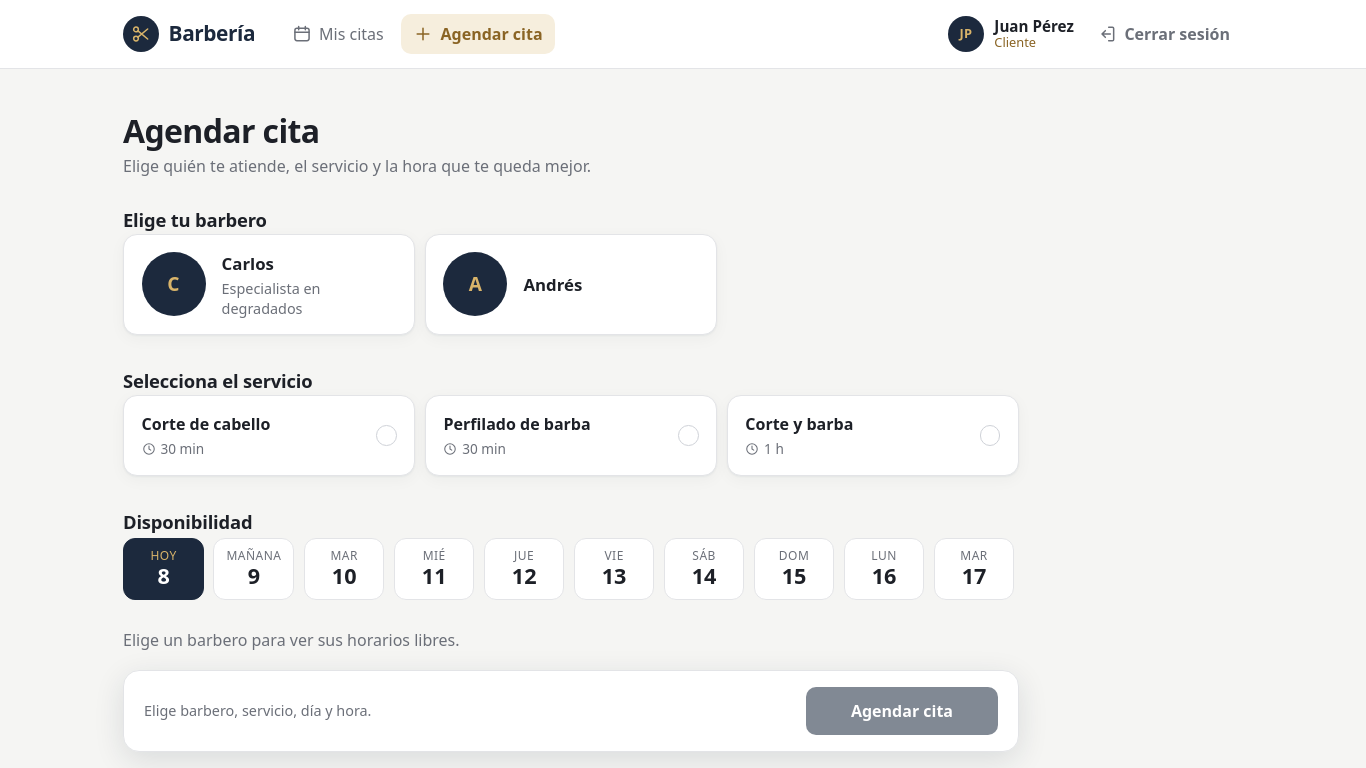
agendar cita (HU-01, HU-02, HU-07) › si el horario se ocupó, muestra los que siguen libres
Click the radio button labelled "Carlos".
click(269, 284)  # box top-left (123, 234), bottom-right (415, 335)
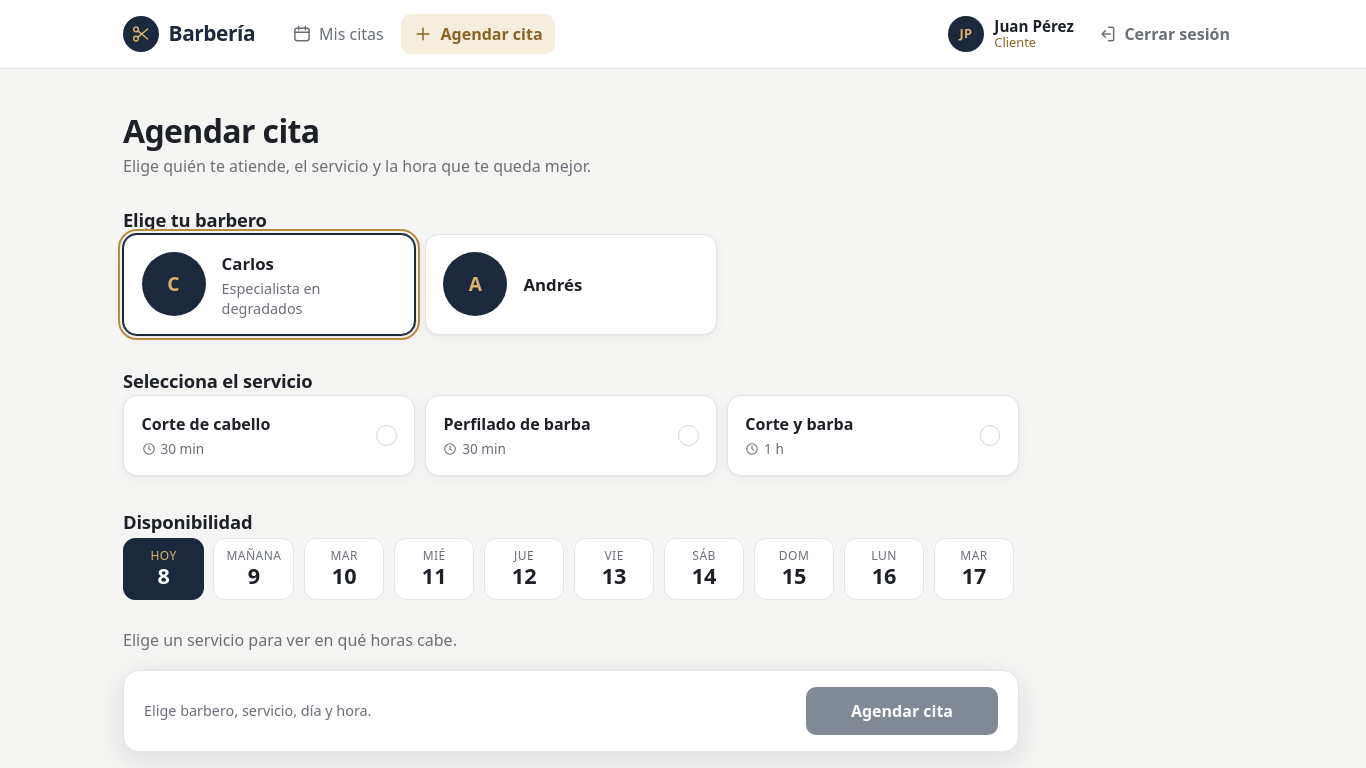
Click the radio button labelled "Corte de cabello".
click(269, 435)  # box top-left (123, 395), bottom-right (415, 476)
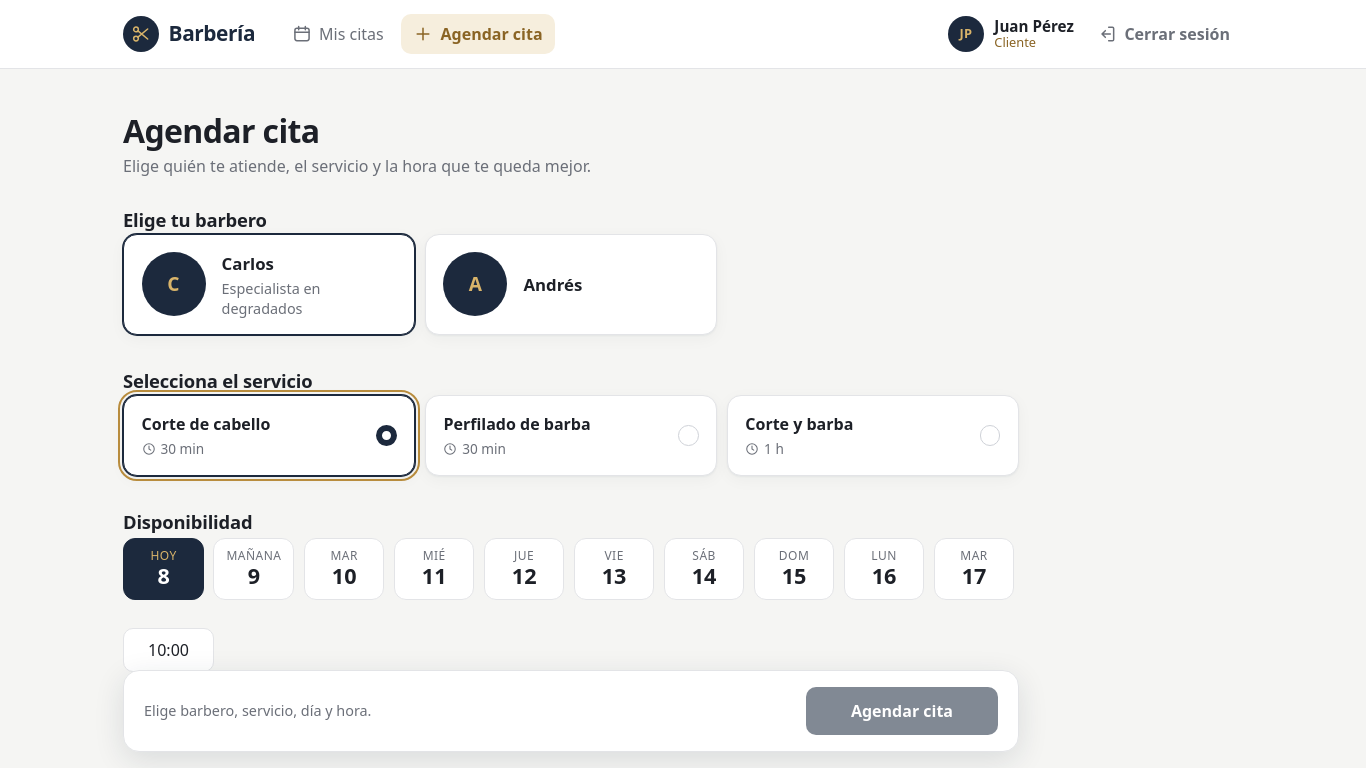
Click the radio button labelled "10:00".
click(168, 650)  # box top-left (123, 628), bottom-right (214, 672)
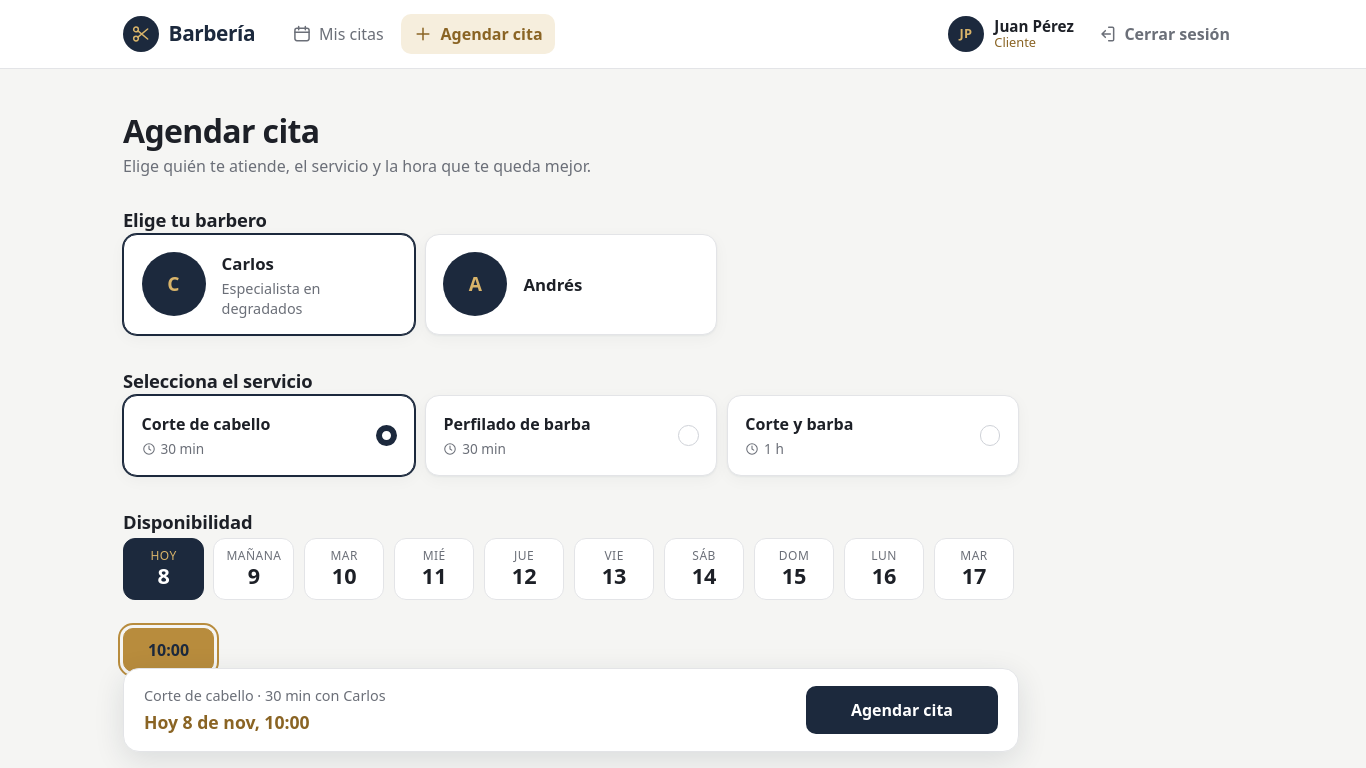
Click the button "Agendar cita".
click(902, 710)  # box top-left (806, 686), bottom-right (998, 734)
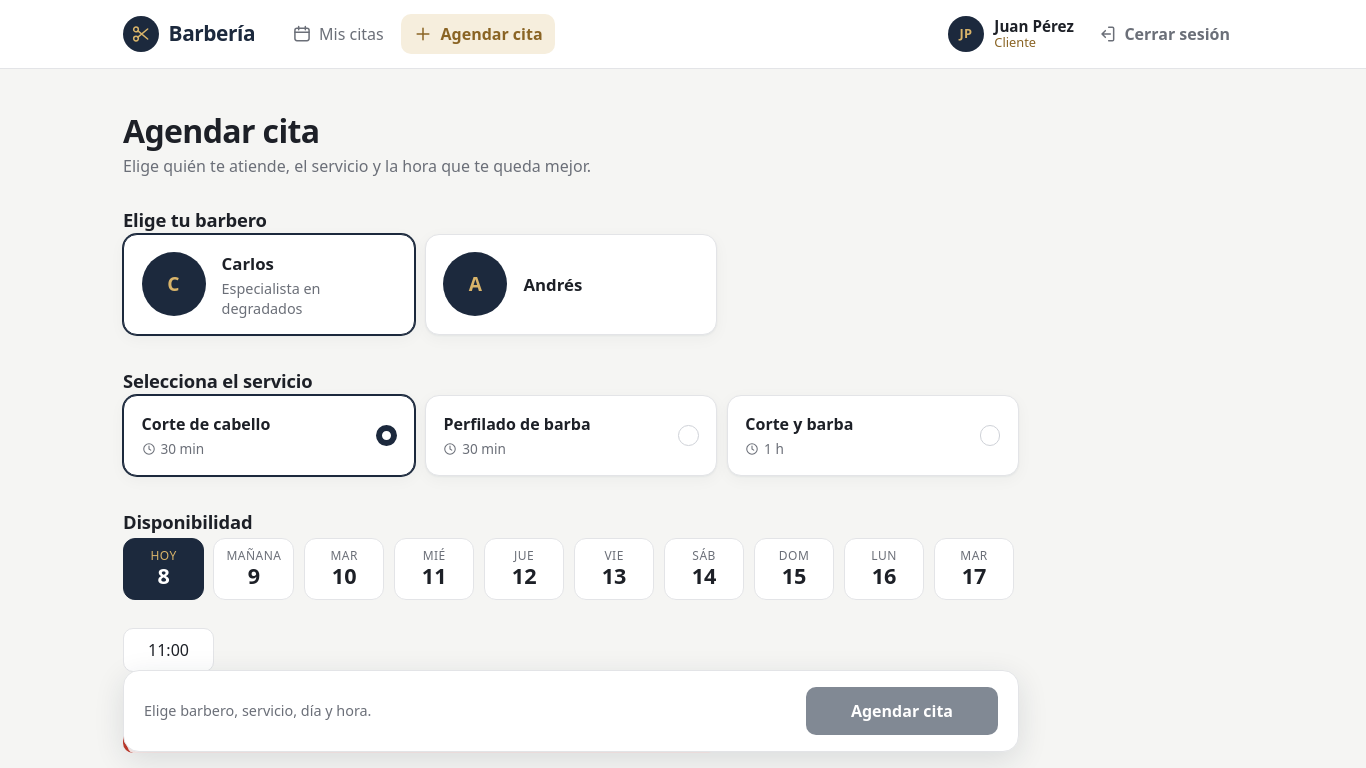
expect the message shows "Ese horario se acaba de ocupar": met, box top-left (143, 718), bottom-right (640, 740)
expect the text "10:00" is gone: met
expect the radio button labelled "11:00" is not checked: met, box top-left (123, 628), bottom-right (214, 672)
